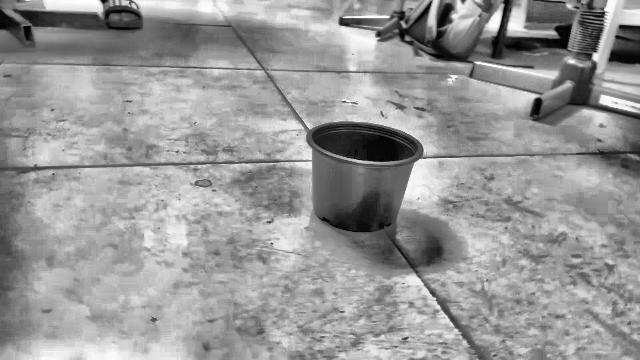pot: (307, 122, 422, 232)
